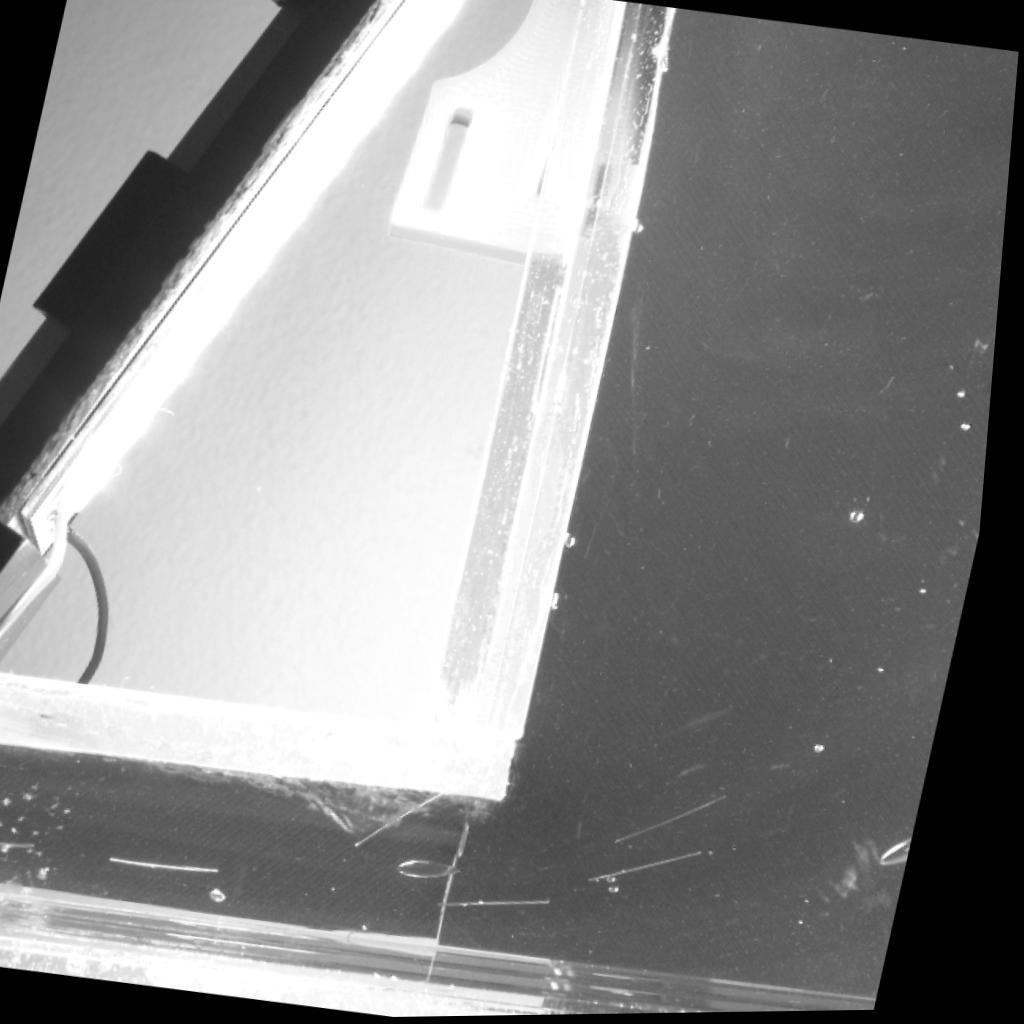Fiber: (626, 795, 742, 847), (365, 792, 461, 851), (603, 850, 719, 887), (121, 855, 235, 879), (452, 899, 567, 910), (0, 837, 49, 852)
